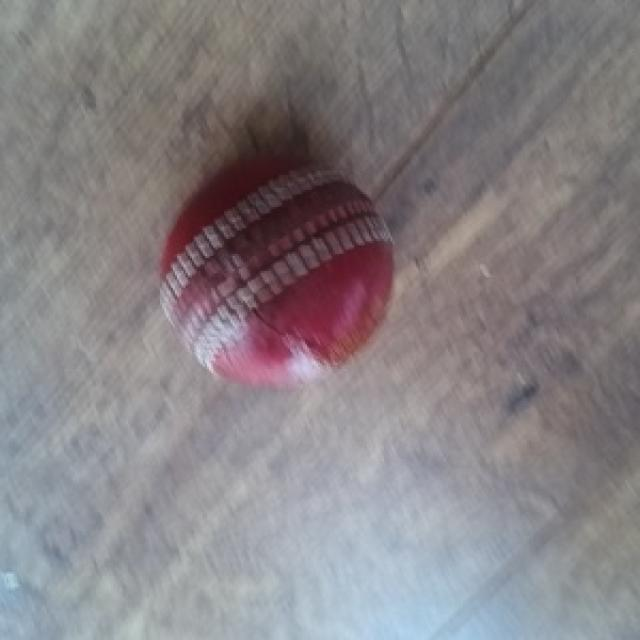ball: (158, 158, 397, 395)
